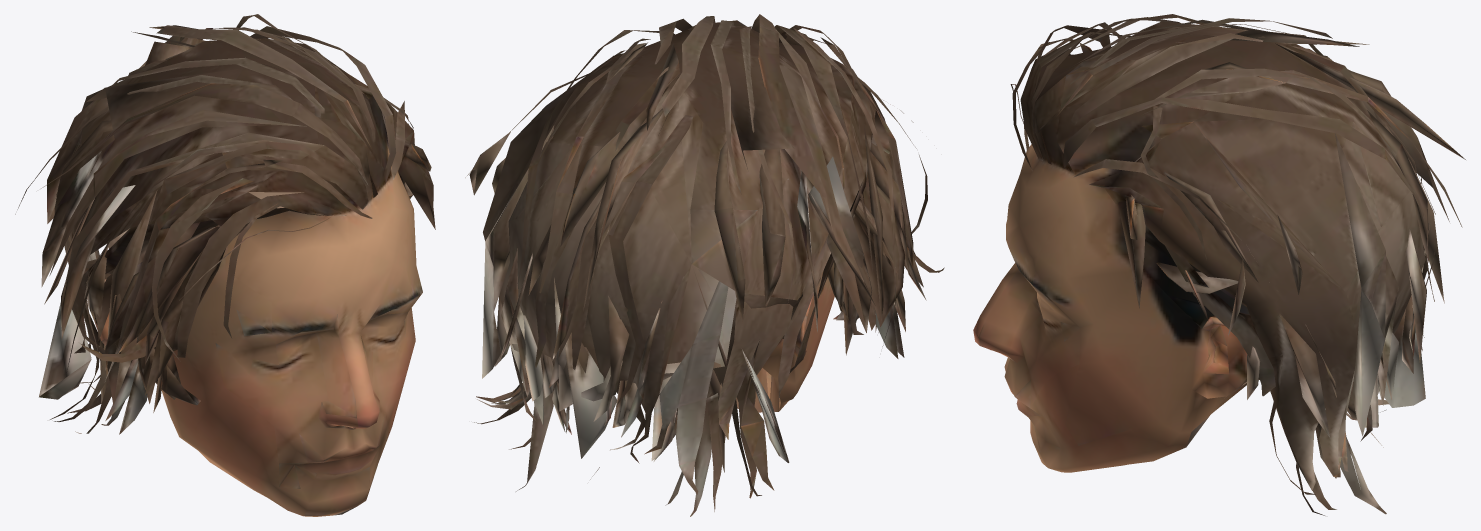
The model's file is dummy_head.glb.
The picture shows the model from 3 angles, left to right: view 1: azimuth 30°, elevation 25°; view 2: azimuth 150°, elevation 25°; view 3: azimuth 270°, elevation 25°; orthographic projection. The views are drawn at different scales.
Size of the model in its own units: 0.2617 by 0.26 by 0.2622.
Materials: 1 (1 with a texture image).
